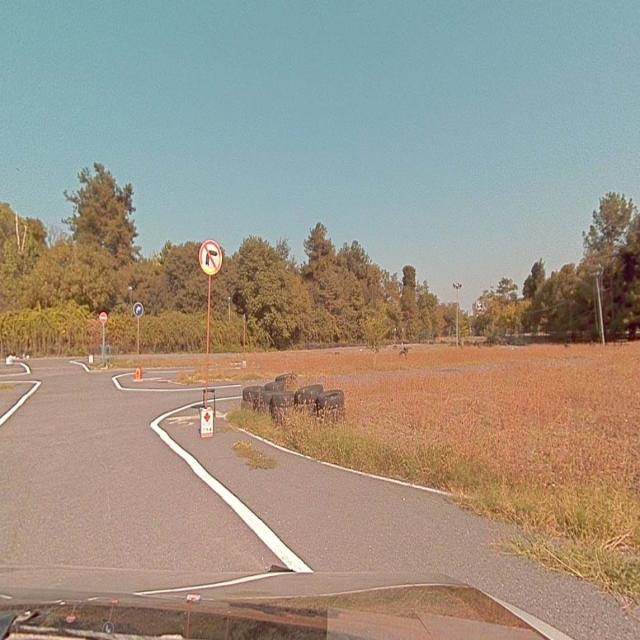girisyok: (100, 311, 108, 325)
sag: (133, 302, 143, 316)
sagadonulmez: (198, 239, 222, 274)
